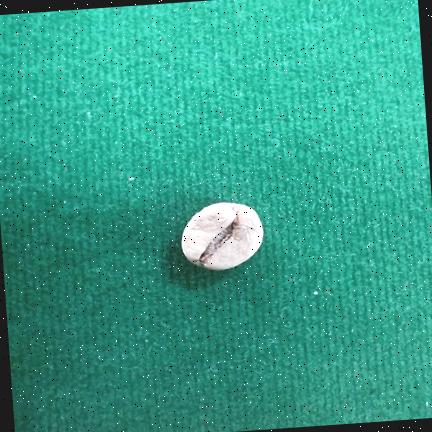husk: (181, 202, 262, 269)
